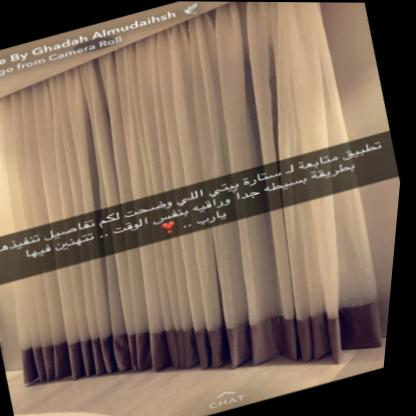Curtains: (0, 1, 383, 385)
